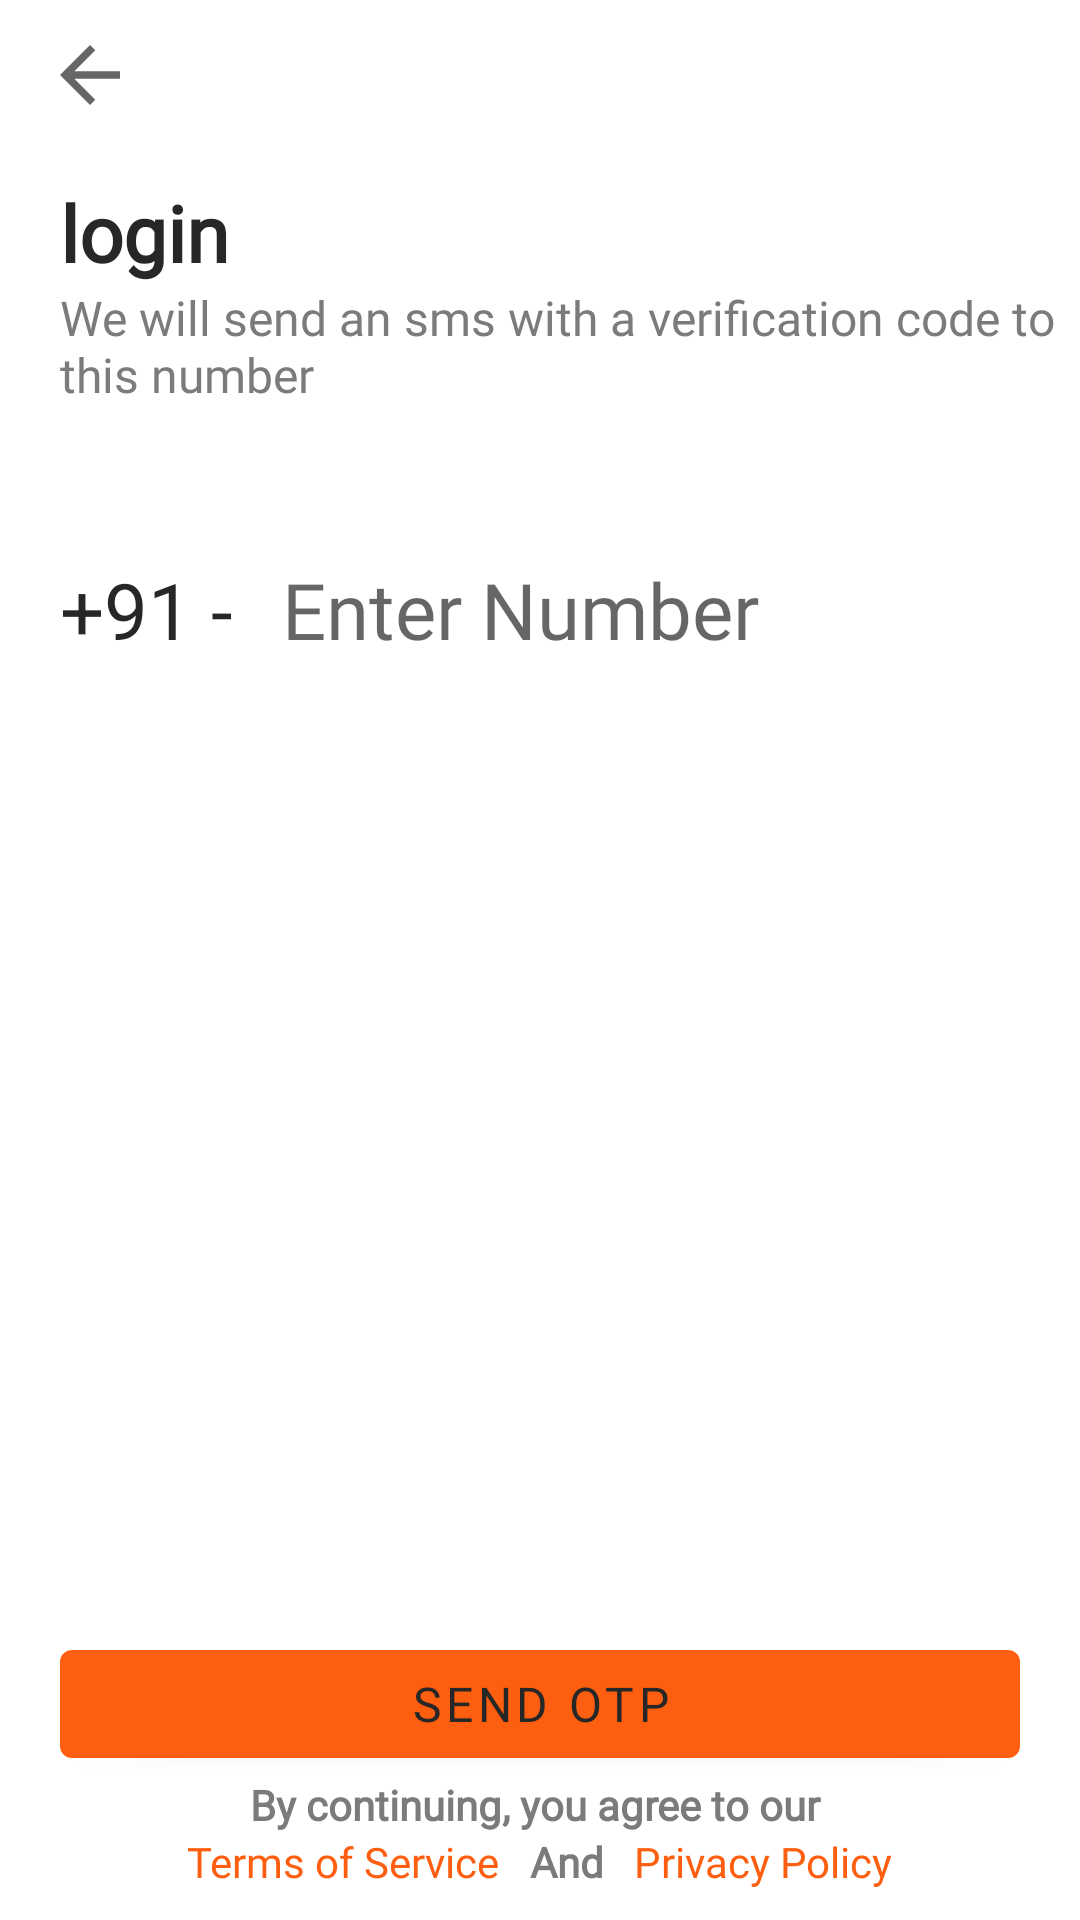

Icons on this 1080 × 1920 Android screen, each with the point to tap as point (x, y):
back: point (90, 75)
